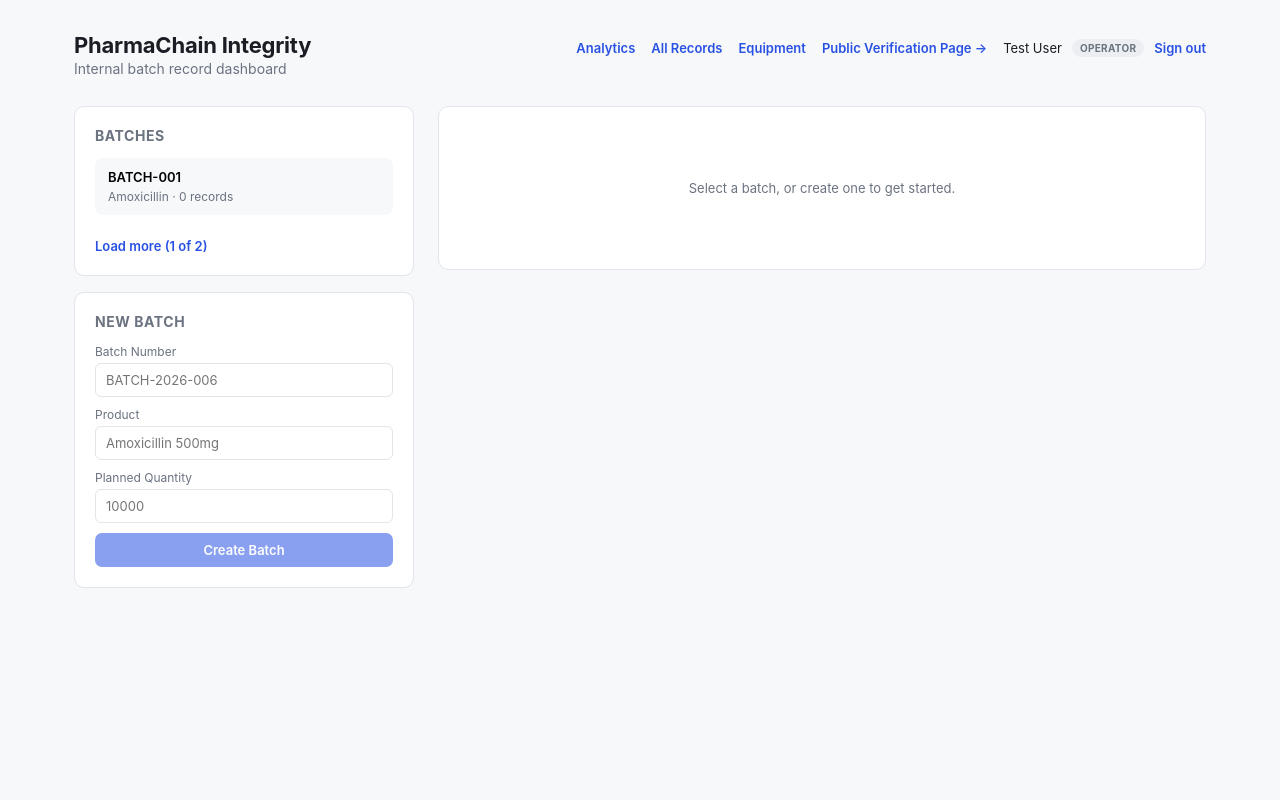
it: Dashboard › loads the next page and appends batches when Load more is clicked
Expected: the text "BATCH-001" is shown, [108,169,181,185]
Click the button "Load more (1 of 2)" at (151, 246), box [95,238,208,254]
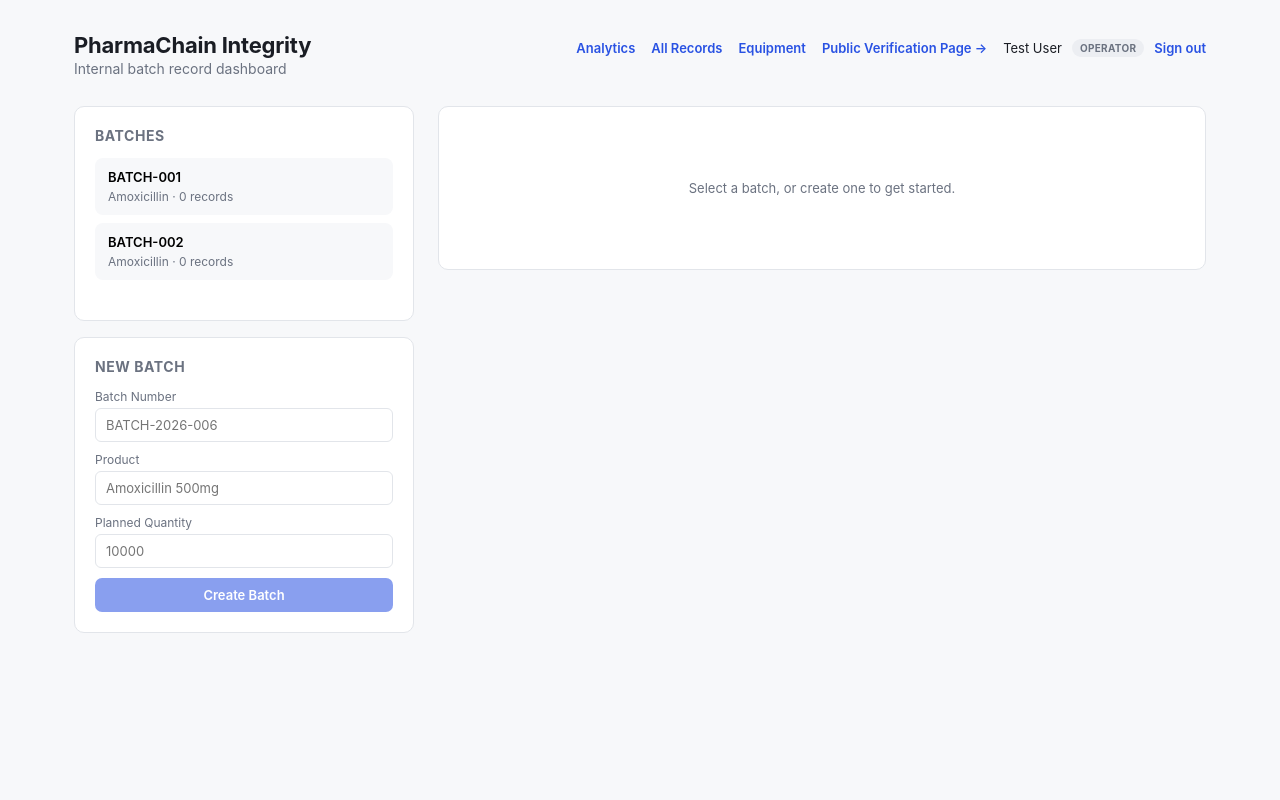
Expected: the text "BATCH-001" is shown, [108,169,181,185]
Expected: the text "BATCH-002" is shown, [108,234,184,250]
